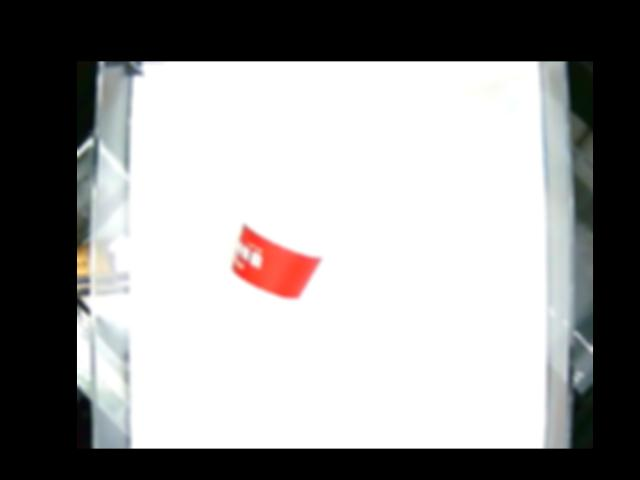Cup: (226, 194, 333, 319)
